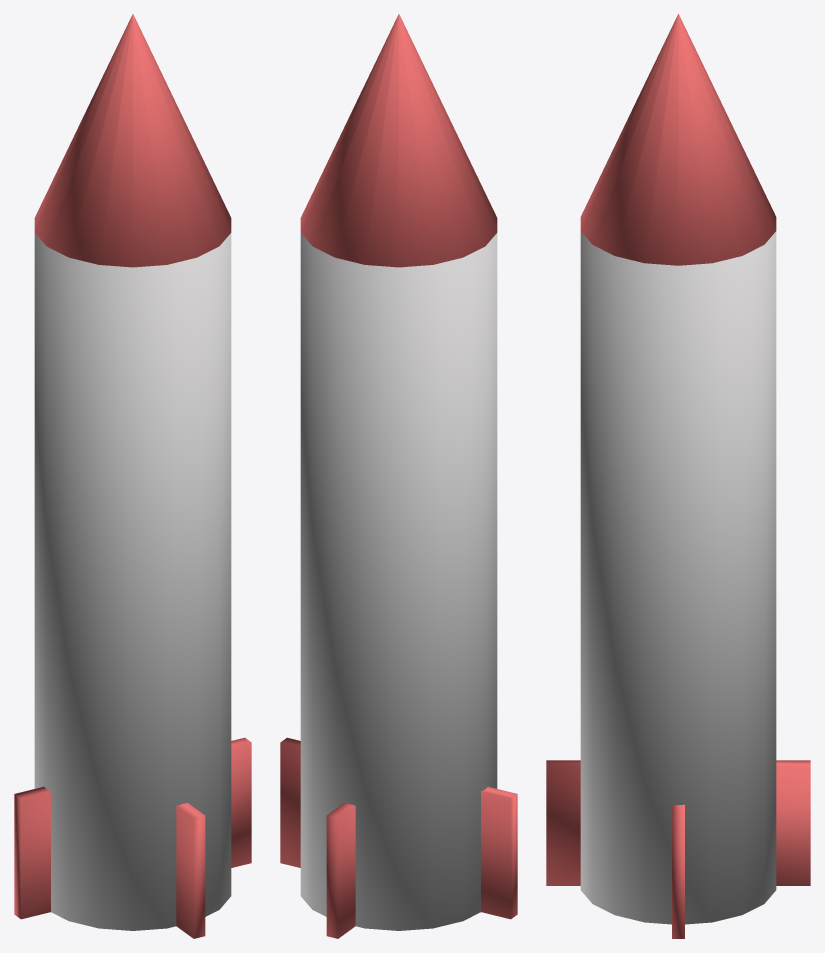
The model's file is space_rocket.glb.
The picture shows the model from 3 angles, left to right: view 1: azimuth 30°, elevation 25°; view 2: azimuth 150°, elevation 25°; view 3: azimuth 270°, elevation 25°; orthographic projection.
Parts seen in each view (by area): view 1: fuselage_node, nose_node, fin1_node, fin2_node; view 2: fuselage_node, nose_node, fin1_node, fin2_node; view 3: fuselage_node, nose_node, fin2_node, fin1_node.
Boxes of the visible parts, left/top/right/bottom form: fuselage_node: left=34, top=233, right=231, bottom=930; nose_node: left=34, top=14, right=231, bottom=267; fin1_node: left=14, top=737, right=251, bottom=919; fin2_node: left=176, top=803, right=205, bottom=938; fuselage_node: left=300, top=233, right=497, bottom=930; nose_node: left=300, top=14, right=497, bottom=267; fin1_node: left=280, top=737, right=517, bottom=919; fin2_node: left=326, top=803, right=355, bottom=938; fuselage_node: left=580, top=231, right=776, bottom=924; nose_node: left=580, top=14, right=776, bottom=265; fin2_node: left=546, top=760, right=810, bottom=885; fin1_node: left=672, top=804, right=684, bottom=938.
Size of the model in its own units: 0.8 by 2.9 by 0.8.
